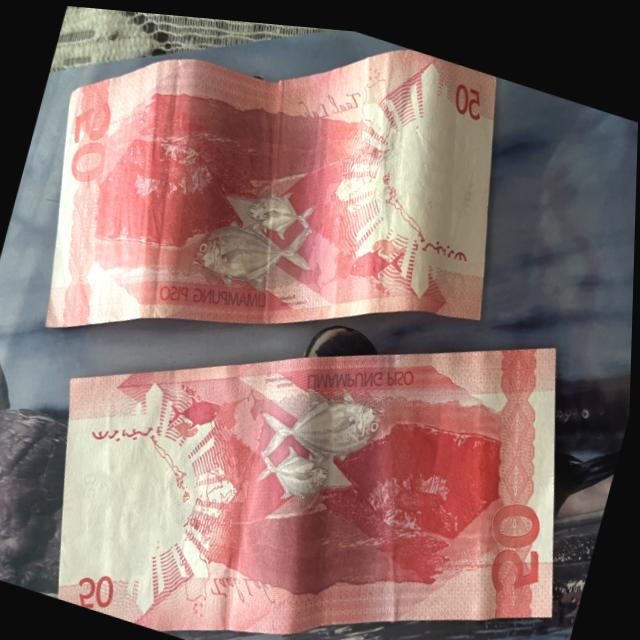50_maliputo: (241, 353, 388, 515), (184, 151, 330, 307)
50_maliputo_watermark: (153, 376, 229, 454), (345, 209, 418, 289)
value_watermark: (75, 460, 112, 511)
watermark: (60, 427, 180, 575)
